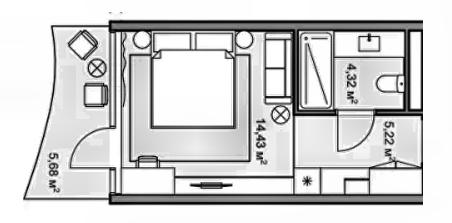door: (67, 122, 118, 172), (335, 105, 377, 153)
window: (106, 30, 119, 121)
